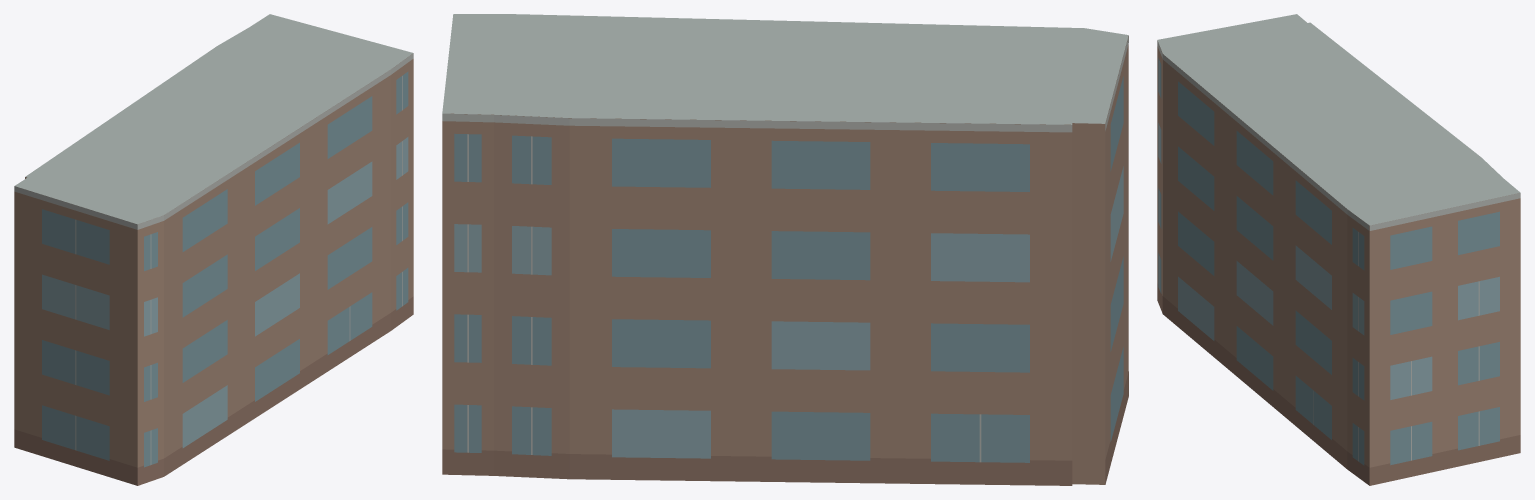
Rendered from survey-upis-32834914.glb.
The picture shows the model from 3 angles, left to right: view 1: azimuth 30°, elevation 25°; view 2: azimuth 150°, elevation 25°; view 3: azimuth 270°, elevation 25°; orthographic projection. The views are drawn at different scales.
Parts seen in each view (by area): view 1: survey-upis-32834914.tmp; view 2: survey-upis-32834914.tmp; view 3: survey-upis-32834914.tmp.
Part boxes in pixels (<box>): survey-upis-32834914.tmp: <box>14,14,413,485</box>; survey-upis-32834914.tmp: <box>442,14,1128,485</box>; survey-upis-32834914.tmp: <box>1157,14,1520,485</box>.
Bounding box in the file's own units: 20.06 × 11.5 × 14.56.
